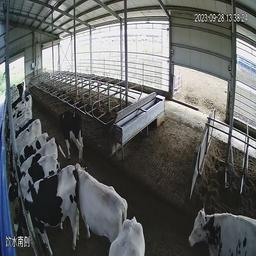cow: (151, 192, 248, 254), (14, 160, 83, 243), (62, 131, 100, 234), (107, 200, 151, 252), (7, 144, 56, 177), (6, 125, 53, 157), (6, 105, 41, 132), (55, 100, 72, 138), (4, 91, 31, 114)
